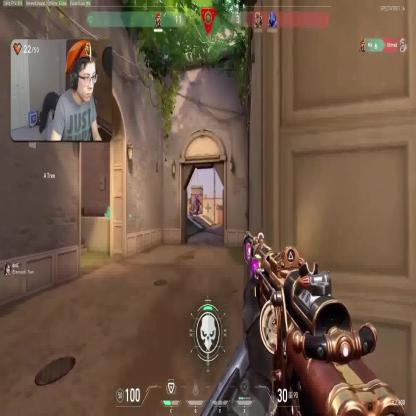enemy: (194, 194, 201, 216), (188, 204, 192, 215)
enemy_head: (196, 194, 198, 199), (190, 204, 191, 207)
